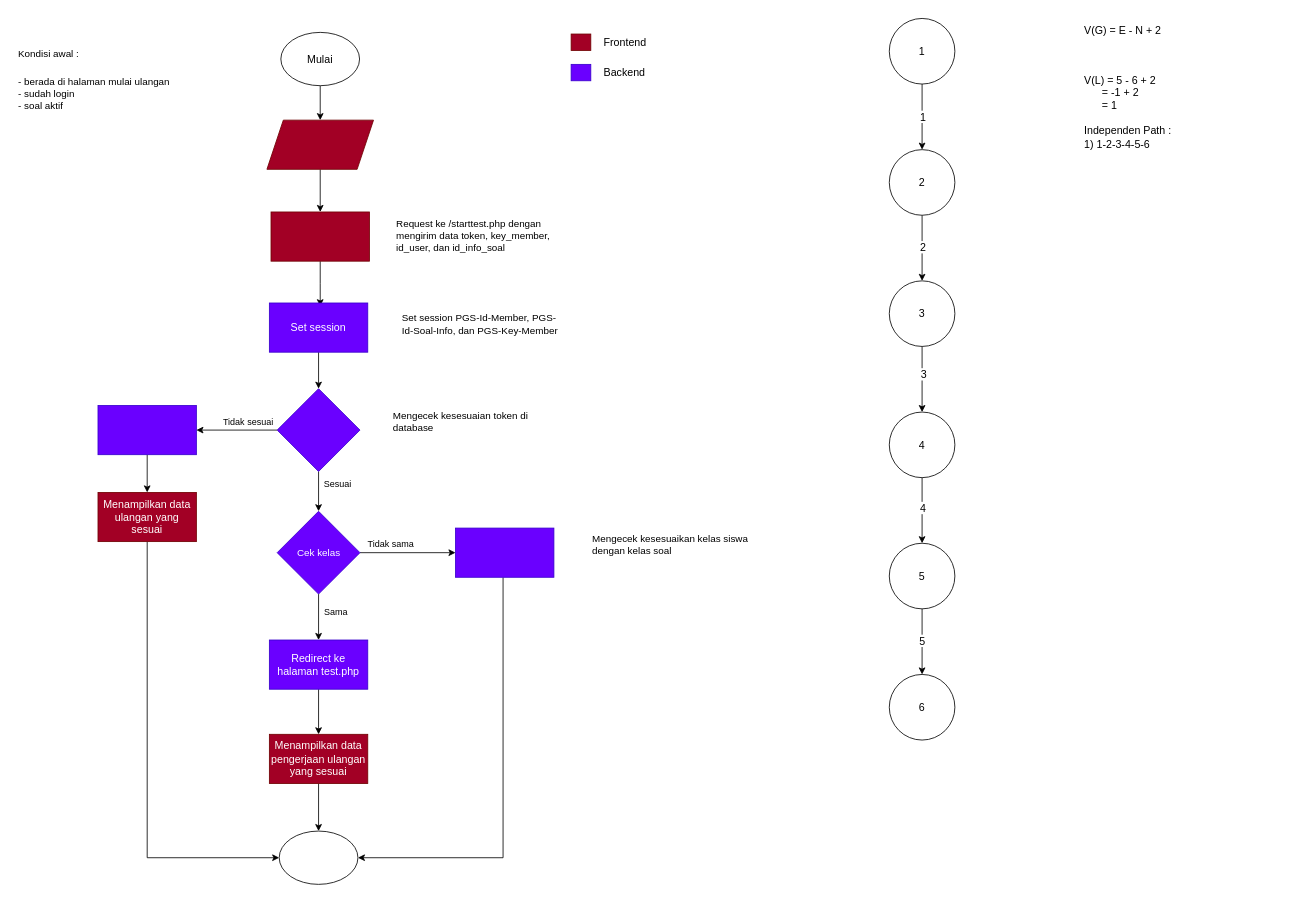
The diagram is 1305 pixels wide and 899 high, and some of its shapes have lost their labels. The box of each missing label's shape, as (x1, y1, x2, y2) in pixels:
Cek token: (276, 388, 360, 472)
Klik mulai kerjakan: (270, 211, 369, 261)
Memasukan token: (266, 119, 374, 169)
Redirect ke halaman index.php: (455, 527, 554, 577)
Redirect ke halaman start.php: (97, 405, 196, 455)
Selesai: (278, 830, 358, 884)
